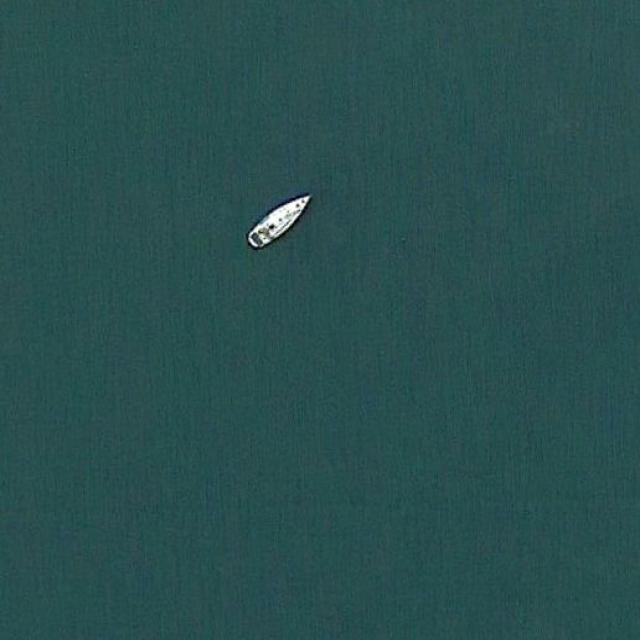ship: (245, 193, 312, 249)
